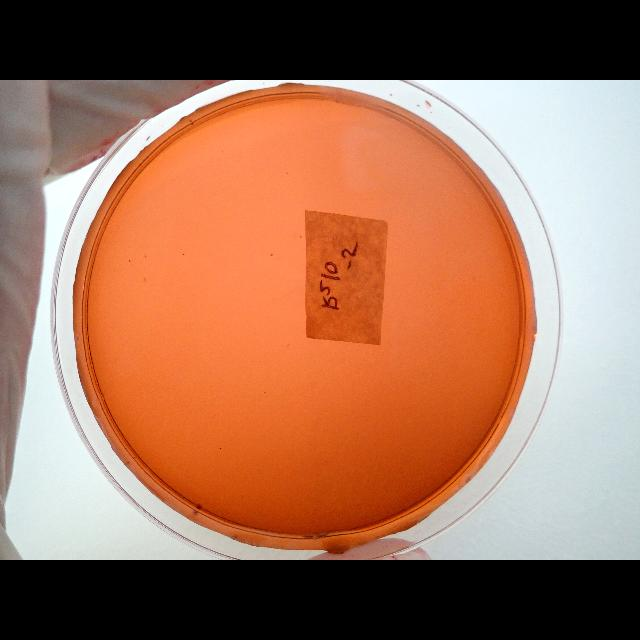colony: (192, 509, 200, 516), (196, 503, 202, 511), (192, 122, 194, 126), (133, 456, 137, 458), (128, 259, 130, 263), (182, 253, 184, 257), (190, 120, 192, 122), (219, 447, 221, 449)
